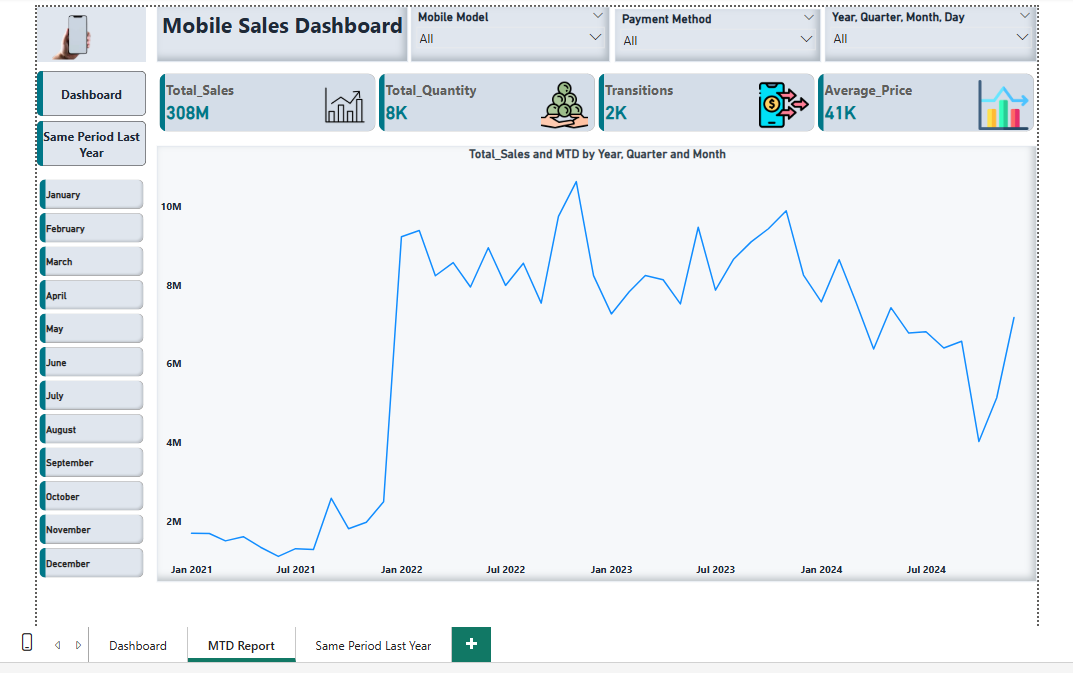

The dashboard page shown, as its layout file describes it:
{"tool":"powerbi","page":{"name":"MTD Report","canvas":[2000,1280],"ordinal":1},"visuals":[{"type":"cardVisual","fields":{"Data":["Sales_Data.Total_Sales","Sales_Data.Total_Quantity","Sales_Data.Transitions","Sales_Data.Average_Price"]},"box":[240,128,1760,126],"z":0},{"type":"slicer","fields":{"Values":["Sales_Data.Payment Method"]},"box":[1156,4,412,106],"z":1000},{"type":"slicer","fields":{"Values":["Sales_Data.Mobile Model"]},"box":[748,0,398,110],"z":2000},{"type":"textbox","box":[240,0,502,110],"z":3000},{"type":"slicer","fields":{"Values":["Custom_Calendar.Date.Variation.Date Hierarchy.Year","Custom_Calendar.Date.Variation.Date Hierarchy.Quarter","Custom_Calendar.Date.Variation.Date Hierarchy.Month","Custom_Calendar.Date.Variation.Date Hierarchy.Day"]},"box":[1576,0,424,110],"z":4000},{"type":"image","box":[0,0,218,110],"z":5000},{"type":"advancedSlicerVisual","fields":{"Values":["Custom_Calendar.Date.Variation.Date Hierarchy.Month"]},"box":[0,340,218,810],"z":6000},{"type":"lineChart","fields":{"Y":["Sales_Data.Total_Sales","Sales_Data.MTD"],"Category":["Custom_Calendar.Date.Variation.Date Hierarchy.Year","Custom_Calendar.Date.Variation.Date Hierarchy.Quarter","Custom_Calendar.Date.Variation.Date Hierarchy.Month"]},"box":[240,278,1760,872],"z":7000},{"type":"pageNavigator","box":[0,128,218,190],"z":8000}]}

Visuals, with their boxes on the page's 2000x1280 design canvas (x1, y1, x2, y2). These are canvas units, not pixel positions in the 1073x673 screenshot, which may show the page scaled, cropped or inside an application window:
cardVisual - Sales_Data.Total_Sales x Sales_Data.Total_Quantity: <bbox>240, 128, 2000, 254</bbox>
slicer - Sales_Data.Payment Method: <bbox>1156, 4, 1568, 110</bbox>
slicer - Sales_Data.Mobile Model: <bbox>748, 0, 1146, 110</bbox>
textbox: <bbox>240, 0, 742, 110</bbox>
slicer - Custom_Calendar.Date.Variation.Date Hierarchy.Year x Custom_Calendar.Date.Variation.Date Hierarchy.Quarter: <bbox>1576, 0, 2000, 110</bbox>
image: <bbox>0, 0, 218, 110</bbox>
advancedSlicerVisual - Custom_Calendar.Date.Variation.Date Hierarchy.Month: <bbox>0, 340, 218, 1150</bbox>
lineChart - Sales_Data.Total_Sales x Sales_Data.MTD: <bbox>240, 278, 2000, 1150</bbox>
pageNavigator: <bbox>0, 128, 218, 318</bbox>
